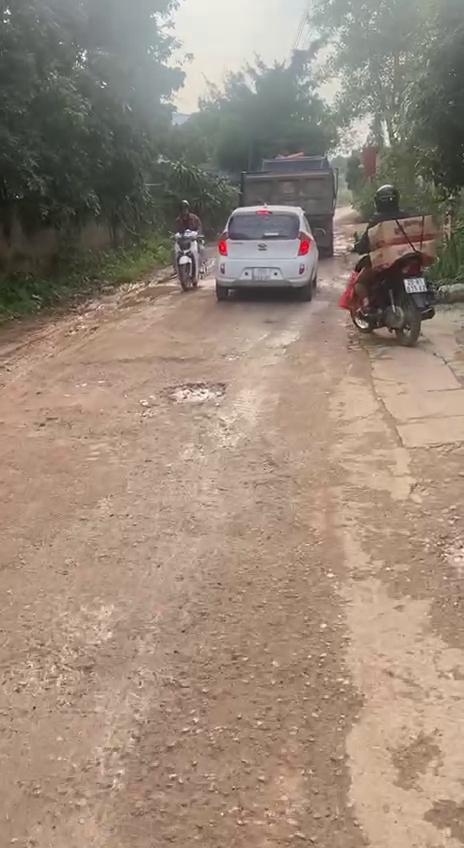pothole: (158, 376, 232, 411)
